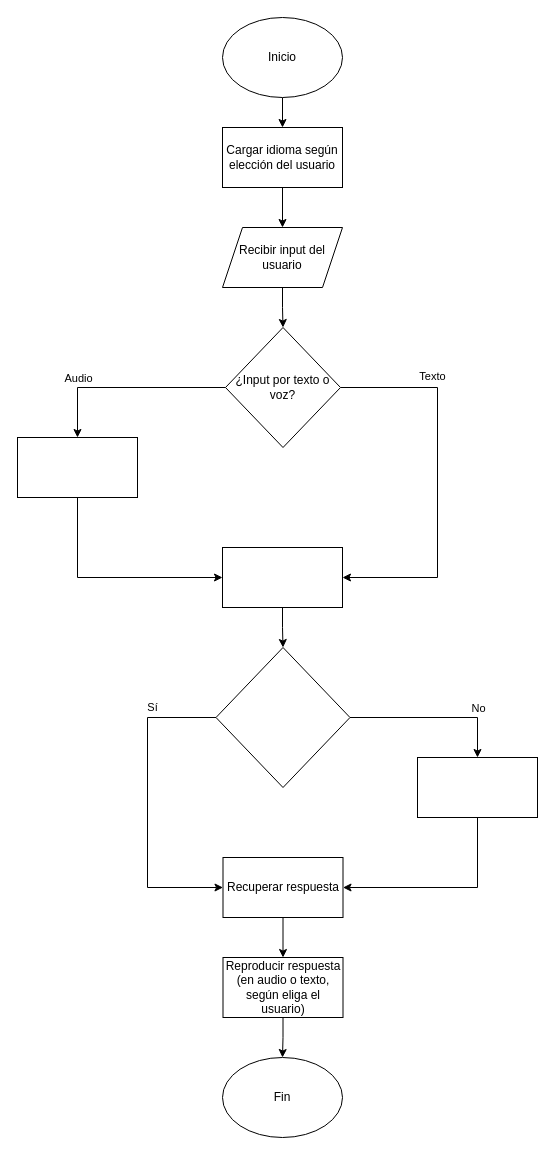
The diagram is 555 pixels wide and 1155 high, and some of its shapes have lost their labels. The shapes that lost their labels are listed below. From the top down, each one's centre as x and y in pixels, then its label:
(x=77, y=467): Procesar audio y convertirlo en texto
(x=282, y=577): Buscar pregunta en base de datos
(x=282, y=717): ¿Respuesta encontrada?
(x=477, y=787): Consultar con LLM y guardar en base de datos
